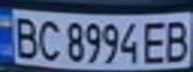4: (118, 19, 142, 65)
8: (60, 18, 84, 63)
9: (81, 19, 103, 64), (100, 19, 121, 64)
B: (9, 12, 42, 61), (160, 17, 193, 63)
C: (33, 16, 63, 62)
E: (139, 17, 172, 65)
